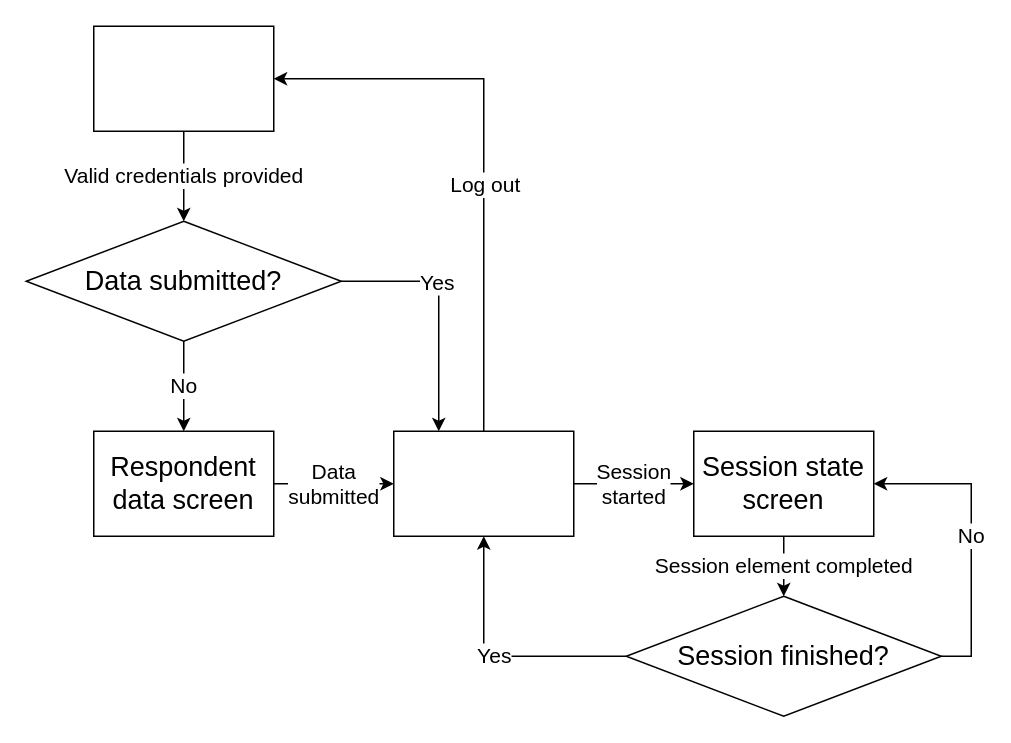
Some shapes in this 1011 by 743 pixel diagram are drawn without their labels. Here are the shapes that lost their labels. From the top down, the centre of each, then its label:
(x=183, y=78): Login
(x=483, y=483): Join session screen
